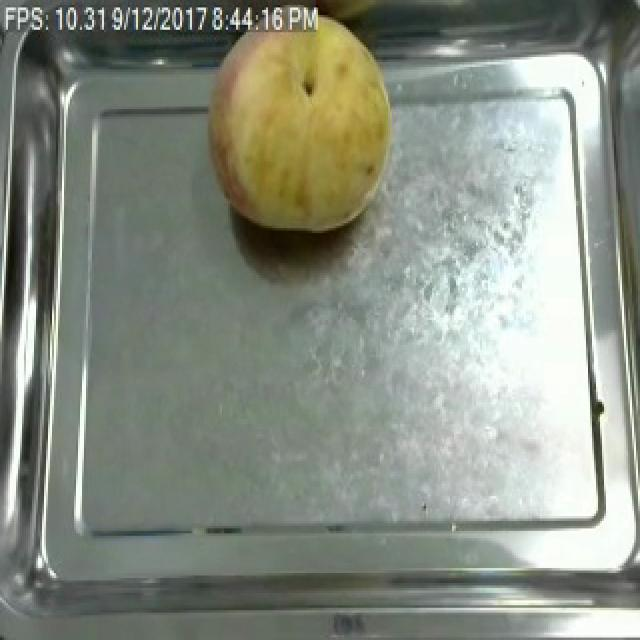Fruit: (200, 2, 404, 240)
